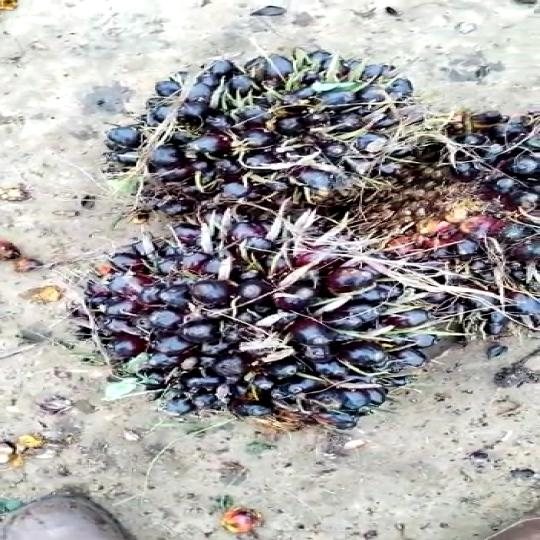mentah: (84, 231, 464, 446), (124, 43, 436, 223), (366, 103, 540, 329)
